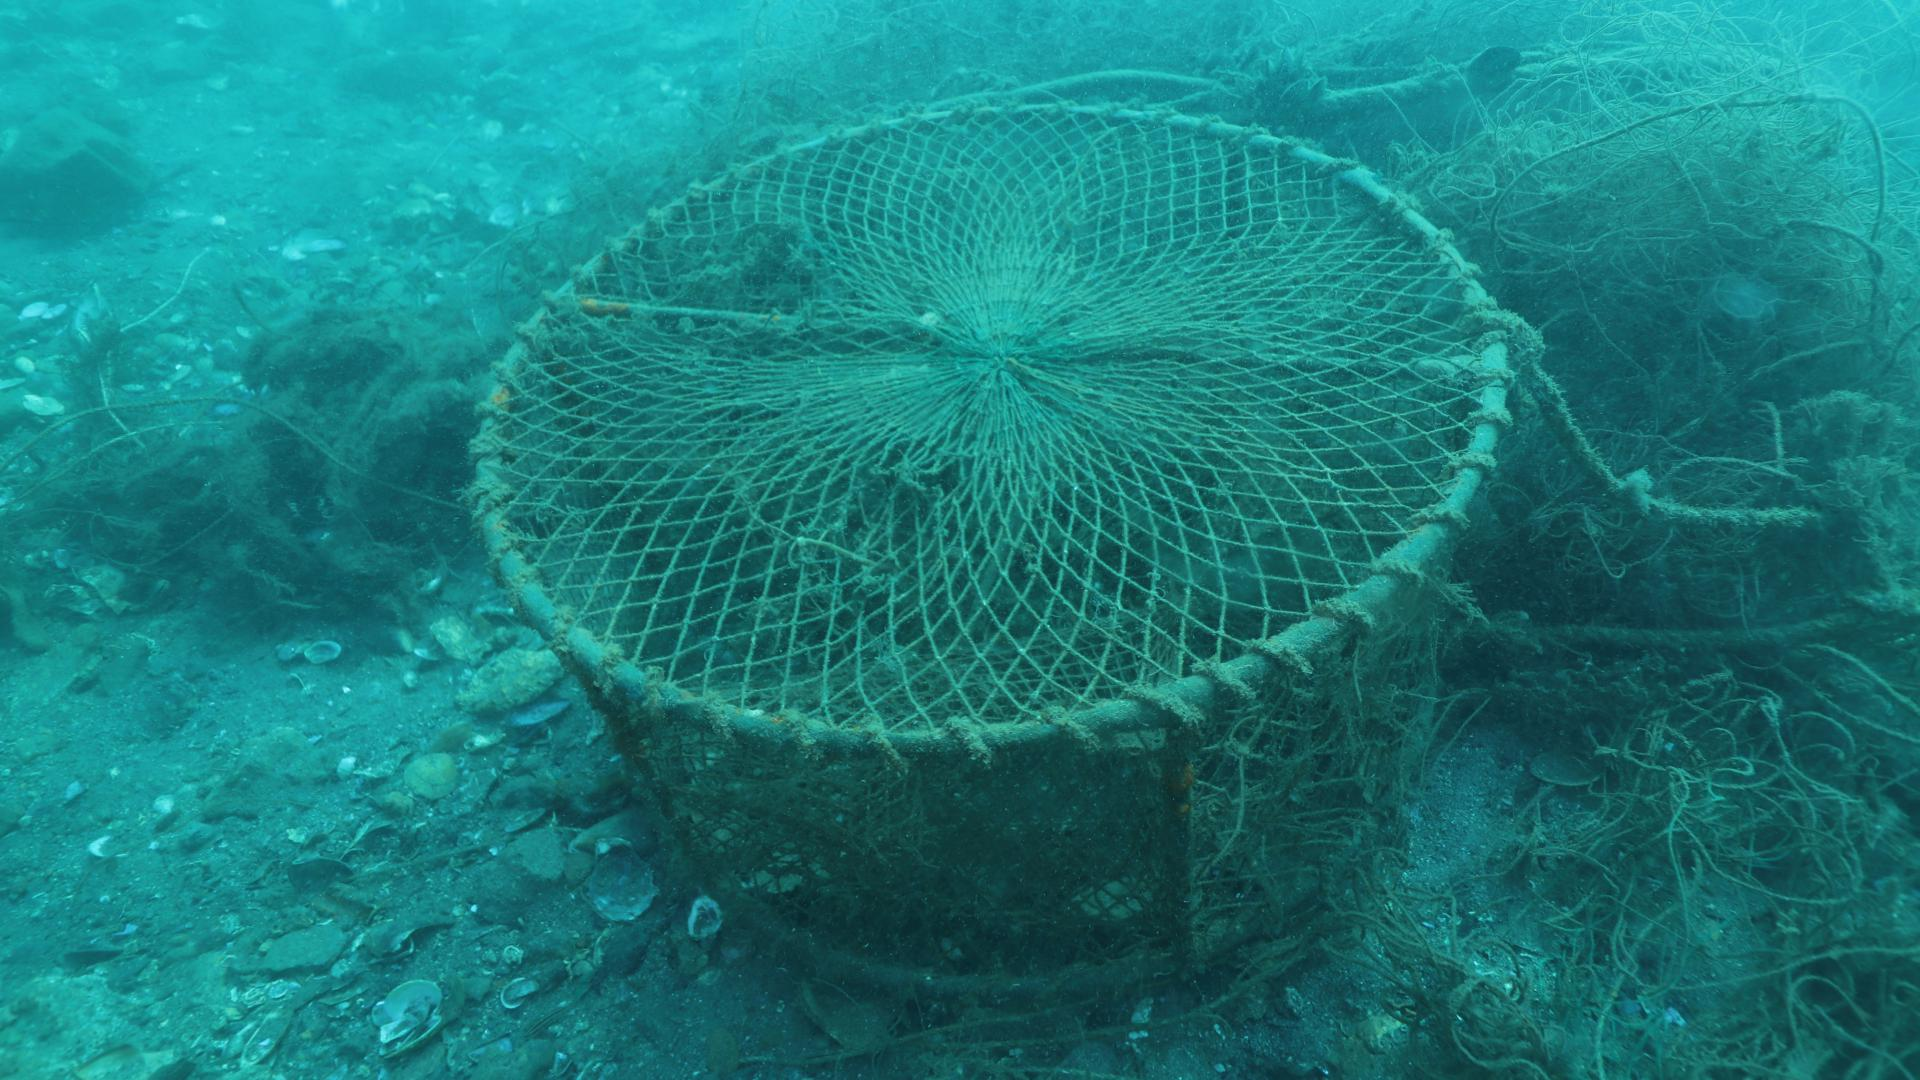circular fish trap: (465, 94, 1516, 1006)
